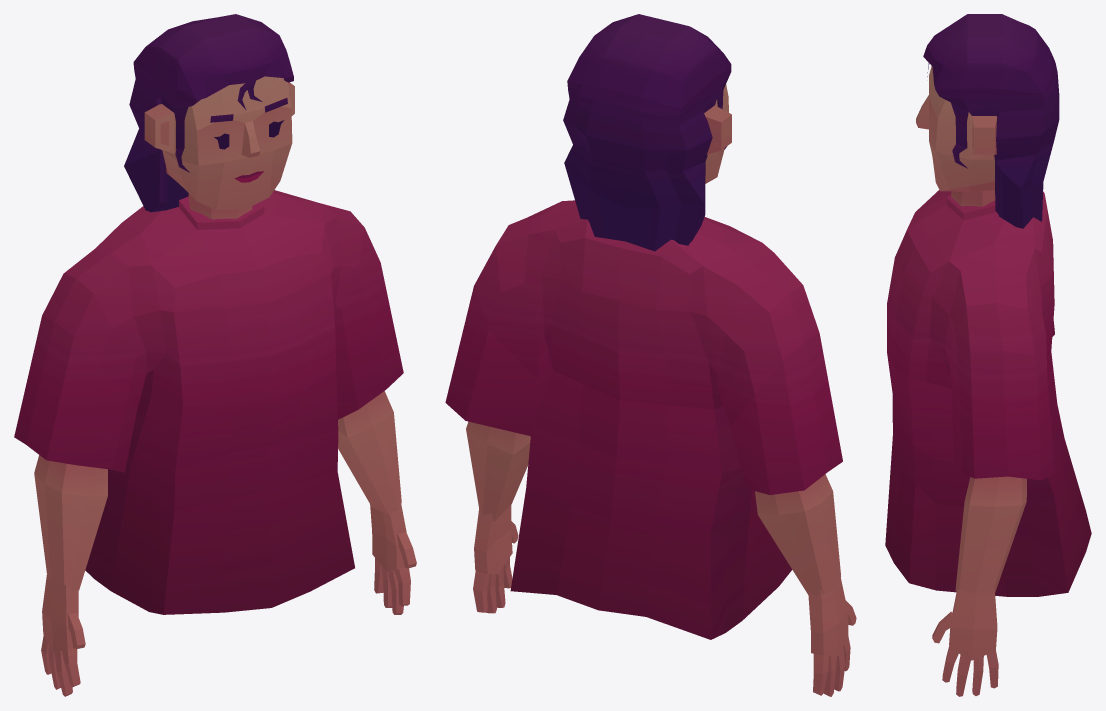
Rendered from Girl_Red.glb.
3 renders of one model, left to right at view 1: azimuth 30°, elevation 25°; view 2: azimuth 150°, elevation 25°; view 3: azimuth 270°, elevation 25°, orthographic. The views are drawn at different scales.
Visible parts, largest first — view 1: Girl_Red; view 2: Girl_Red; view 3: Girl_Red.
Boxes of the visible parts, x1,y1,x2,y2 form: Girl_Red: [14, 14, 416, 696]; Girl_Red: [445, 14, 856, 696]; Girl_Red: [885, 14, 1091, 696].
Size of the model in its own units: 2.43 by 3.95 by 1.25.
1 material, 1 textured.
